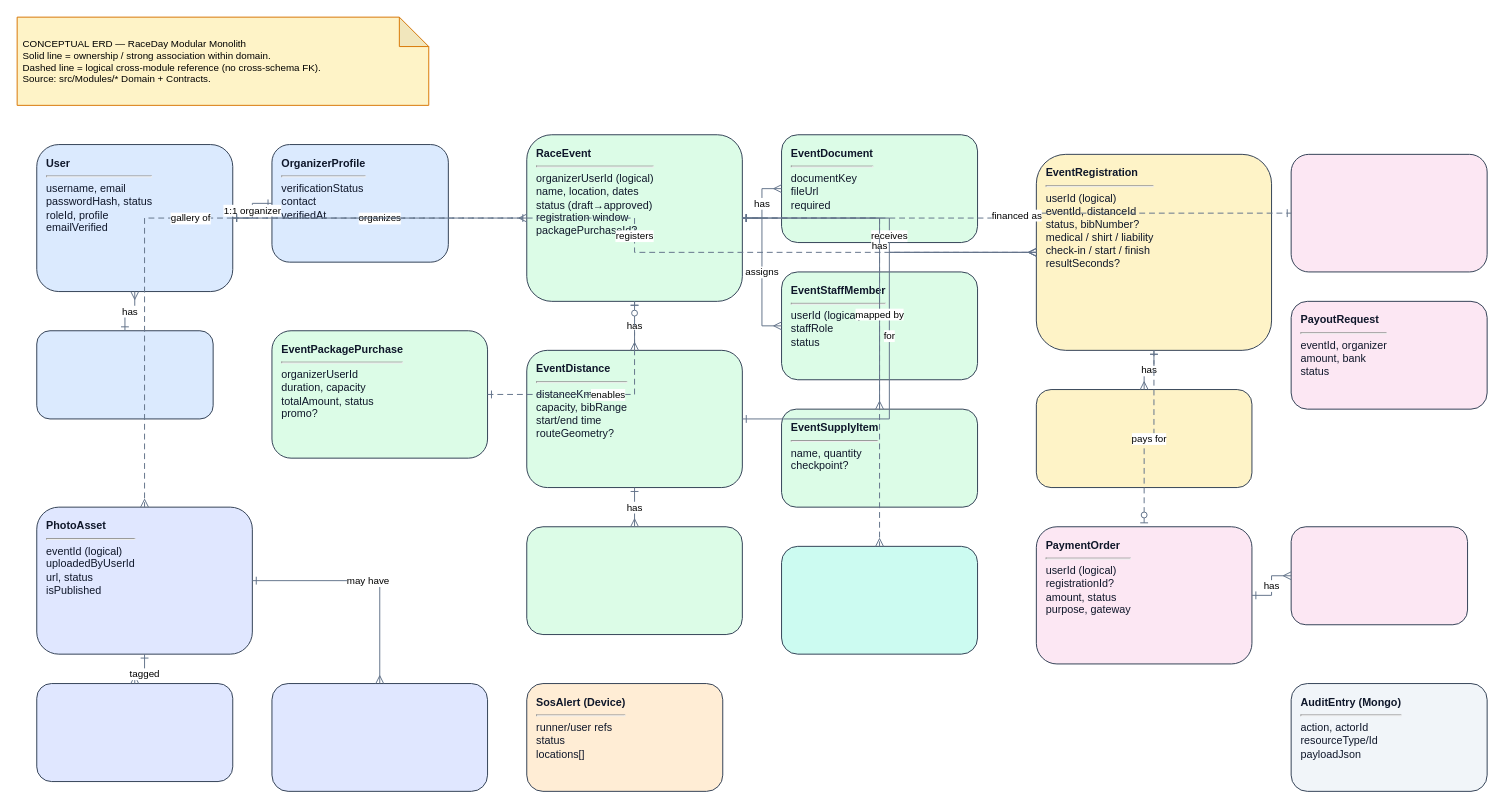
Some shapes in this 1504 by 809 pixel diagram are drawn without their labels. Here are the shapes that lost their labels. From the top down, the centre of each, then its label:
point (1388, 212): EventLedger eventId (logical) gross / refunded payoutPending
point (124, 374): Role roleName description
point (1143, 438): CheckpointPassage registrationId checkpointId passedAtUtc
point (634, 580): EventCheckpoint km, lat/lng type, cutoff belongs Distance
point (1379, 575): PaymentTransaction paymentId type, status rawResponse
point (879, 599): RaceCourse (Map) eventId, distanceId courseJson (Geo) title
point (134, 732): PhotoTag bibNormalized confidence source OCR/Manual
point (379, 737): PhotoDispute photoId, reporter reason, status reviewer?
